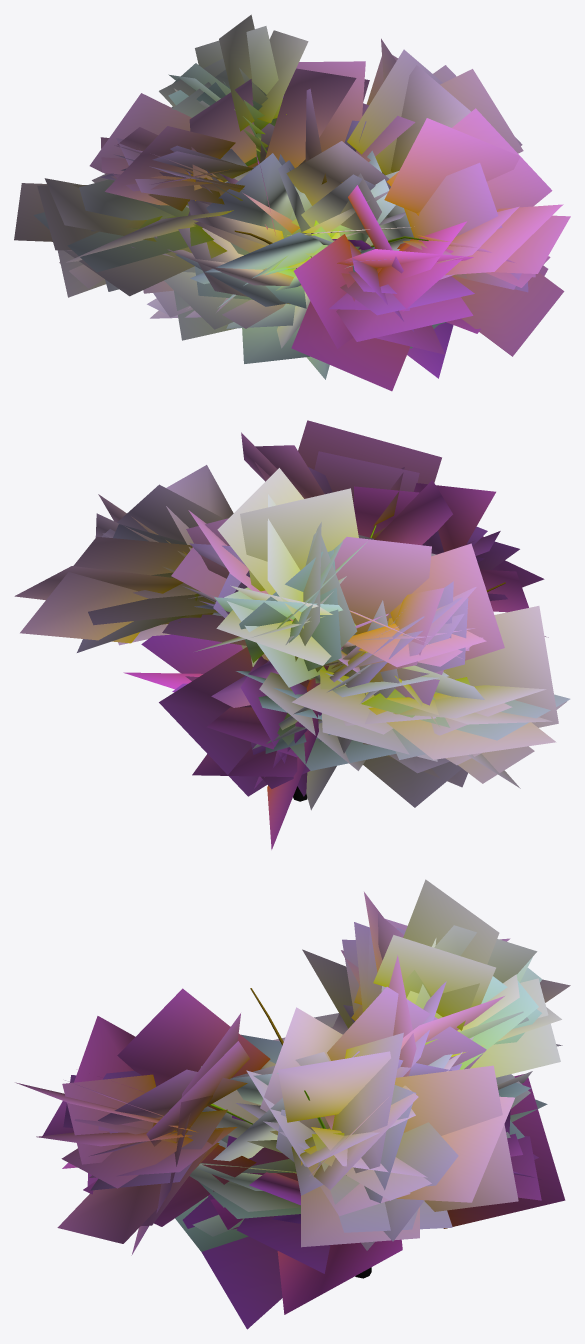
Rendered from tree_cherry_a_lod1.glb.
The picture shows the model from 3 angles, top to bottom: view 1: azimuth 30°, elevation 25°; view 2: azimuth 150°, elevation 25°; view 3: azimuth 270°, elevation 25°; orthographic projection. The views are drawn at different scales.
Visible parts, largest first — view 1: tree_cherry_a_lod1; view 2: tree_cherry_a_lod1; view 3: tree_cherry_a_lod1.
Part boxes in pixels (x1,y1,x2,y2): tree_cherry_a_lod1: [14, 14, 570, 391]; tree_cherry_a_lod1: [14, 420, 570, 849]; tree_cherry_a_lod1: [15, 879, 570, 1329].
Size of the model in its own units: 15.66 by 10.27 by 14.02.
